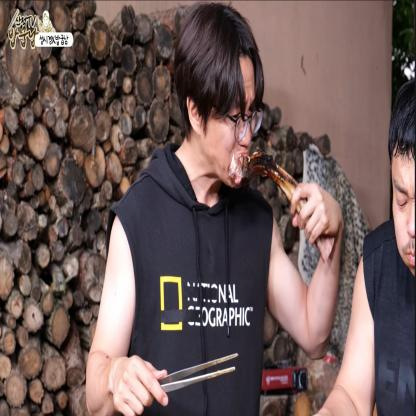streamer: (86, 4, 344, 416), (316, 81, 415, 416)
